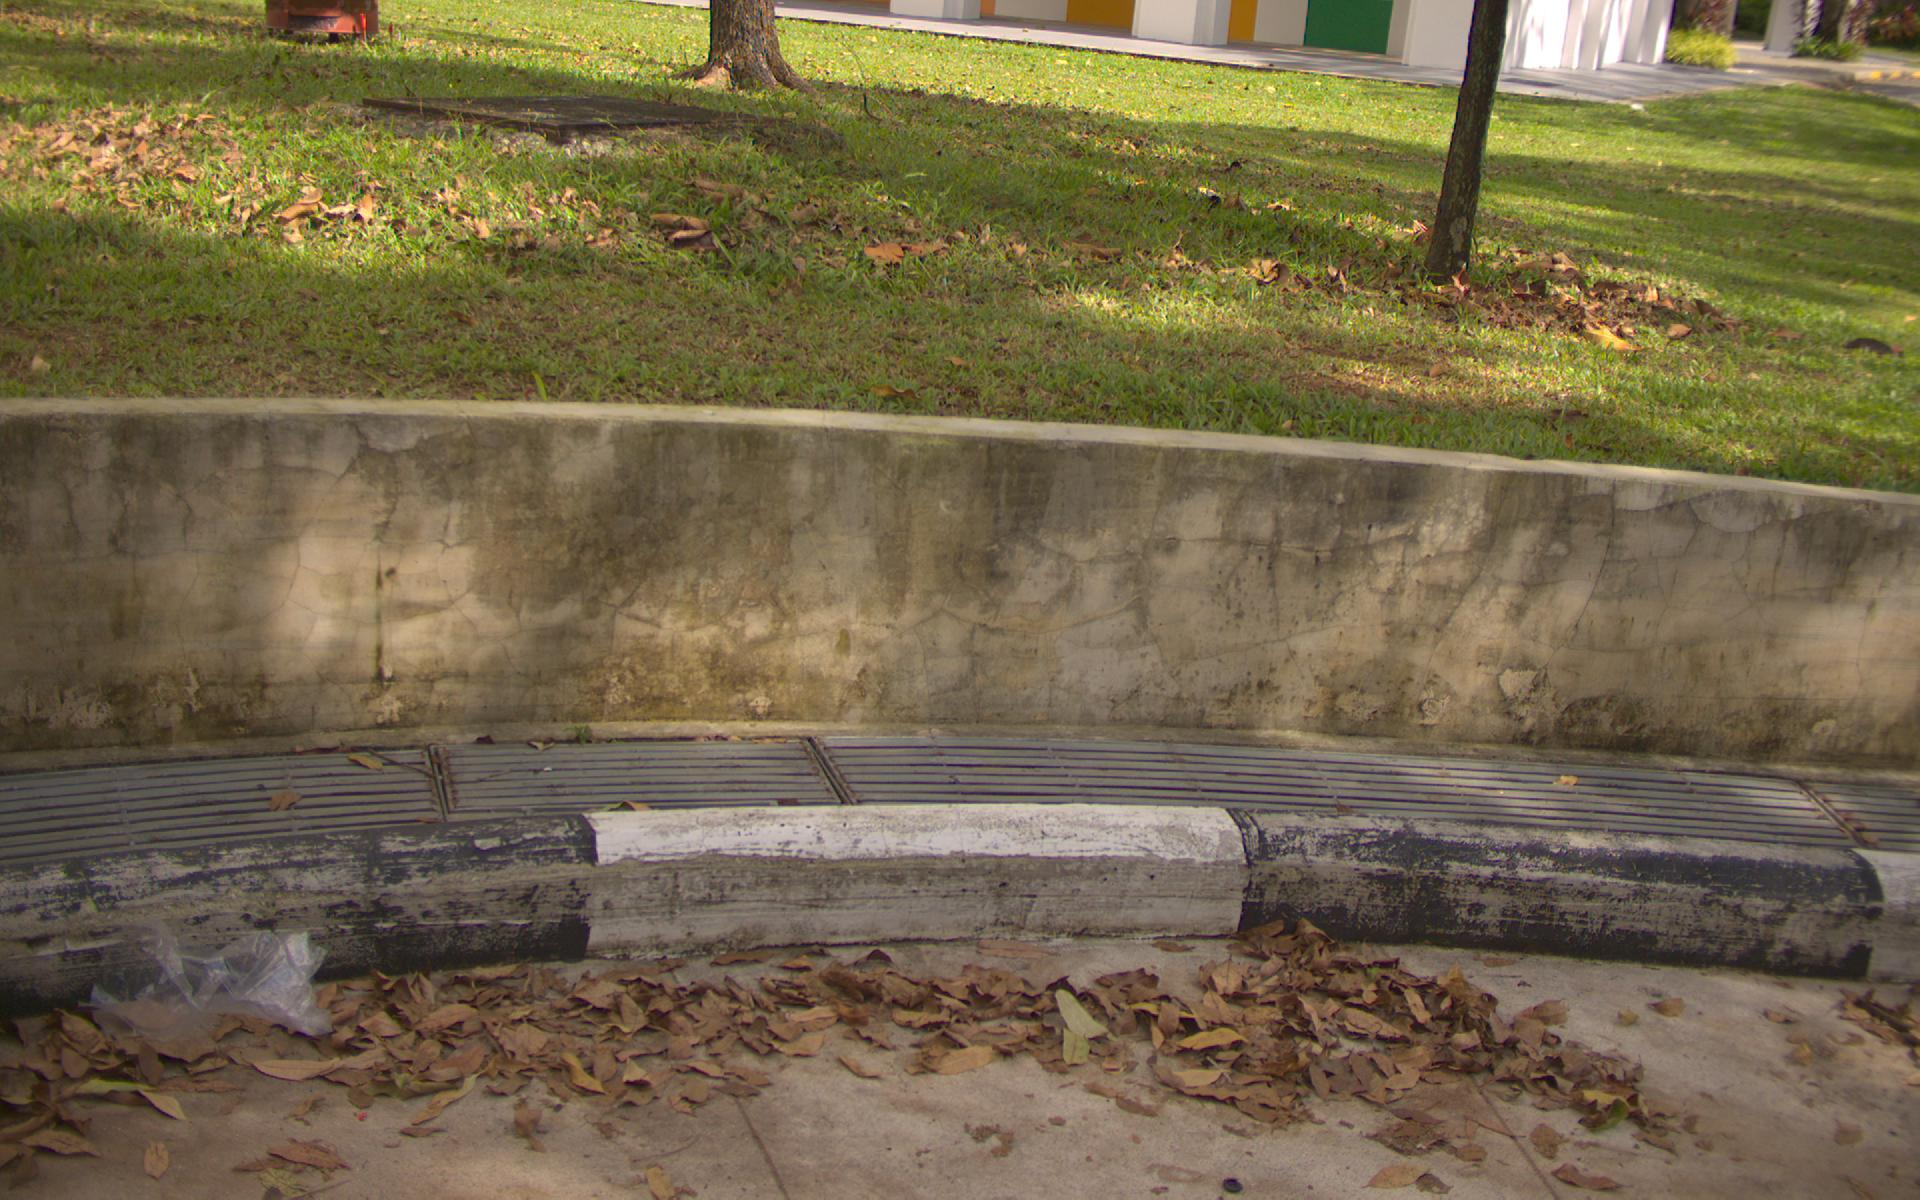curb_dic_low: (326, 724, 1920, 800)
road_curb_medium: (352, 958, 1920, 1165)
road_turf_low: (23, 93, 1920, 386)
